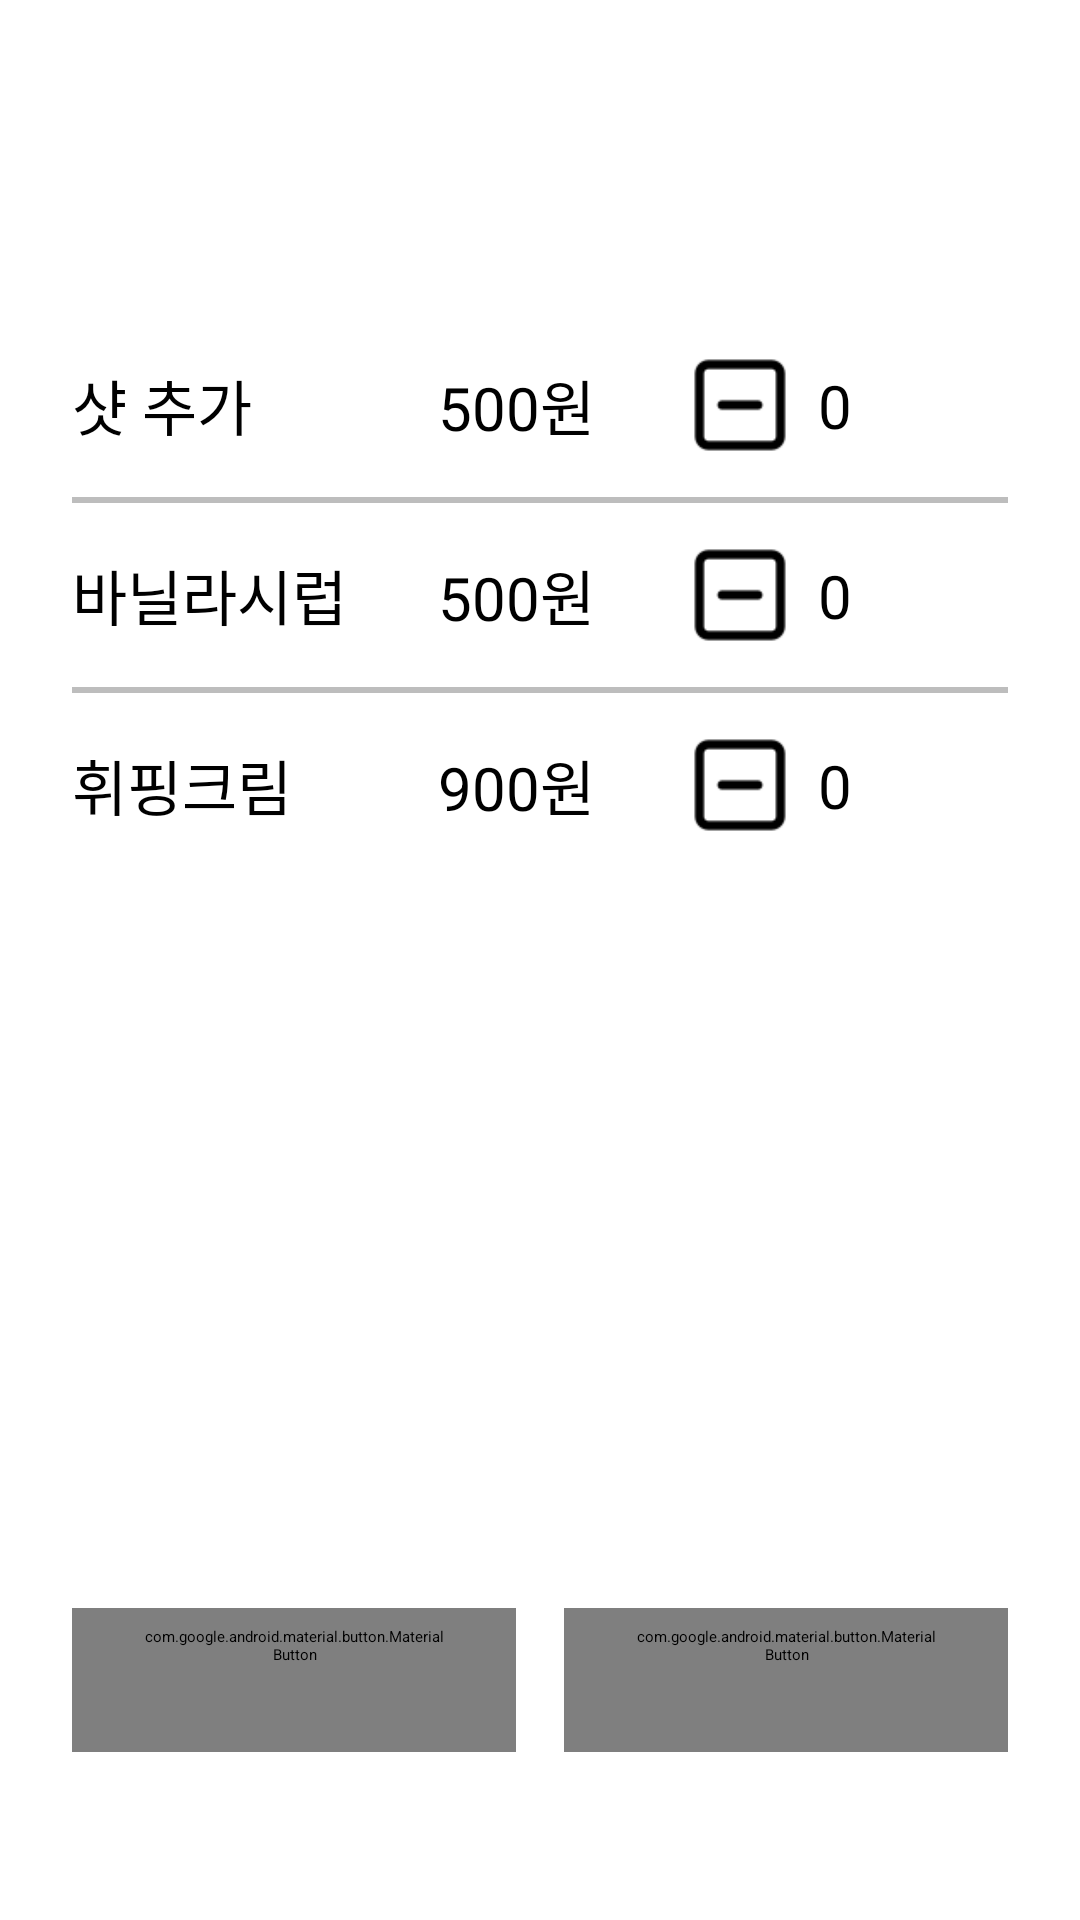

Named icons in this screenshot (1080 x 1920) and their centers, (x,y):
square minus: (740,405), (740,595), (740,785)
